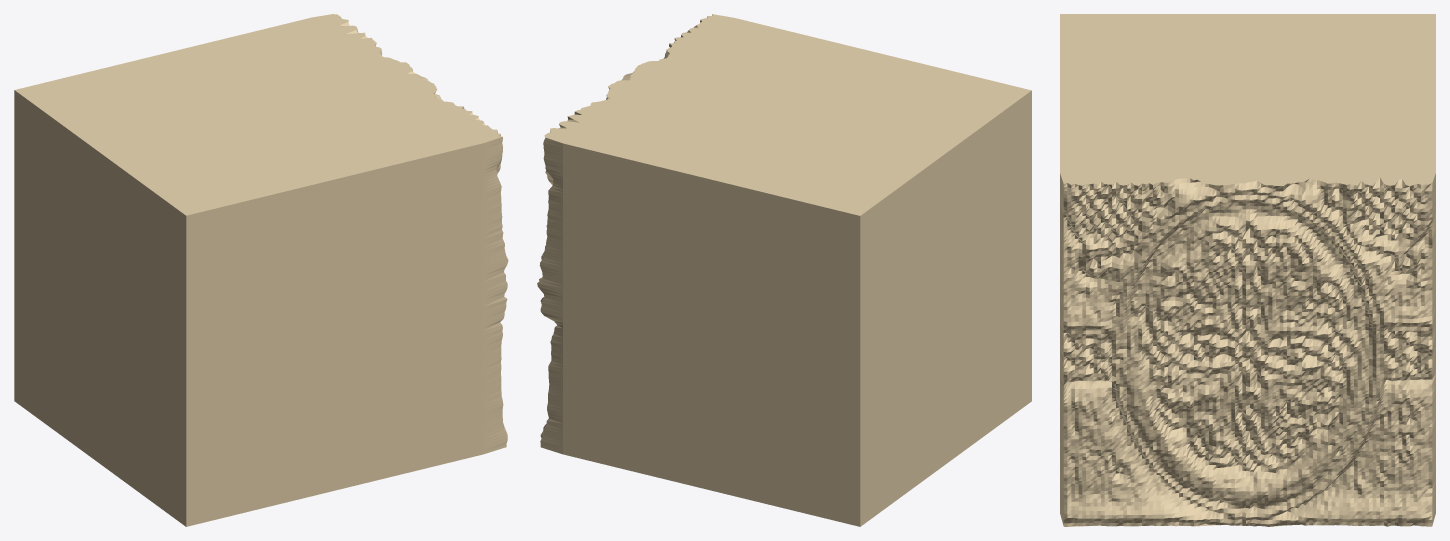
The model's file is bottom1.png - copia.obj.
The picture shows the model from 3 angles, left to right: view 1: azimuth 30°, elevation 25°; view 2: azimuth 150°, elevation 25°; view 3: azimuth 270°, elevation 25°; orthographic projection. The views are drawn at different scales.
Parts seen in each view (by area): view 1: Cube; view 2: Cube; view 3: Cube.
Boxes of the visible parts, x1,y1,x2,y2 form: Cube: (14,14,508,526); Cube: (537,14,1031,526); Cube: (1060,14,1435,526).
Bounding box in the file's own units: 1.1 × 1 × 1.
